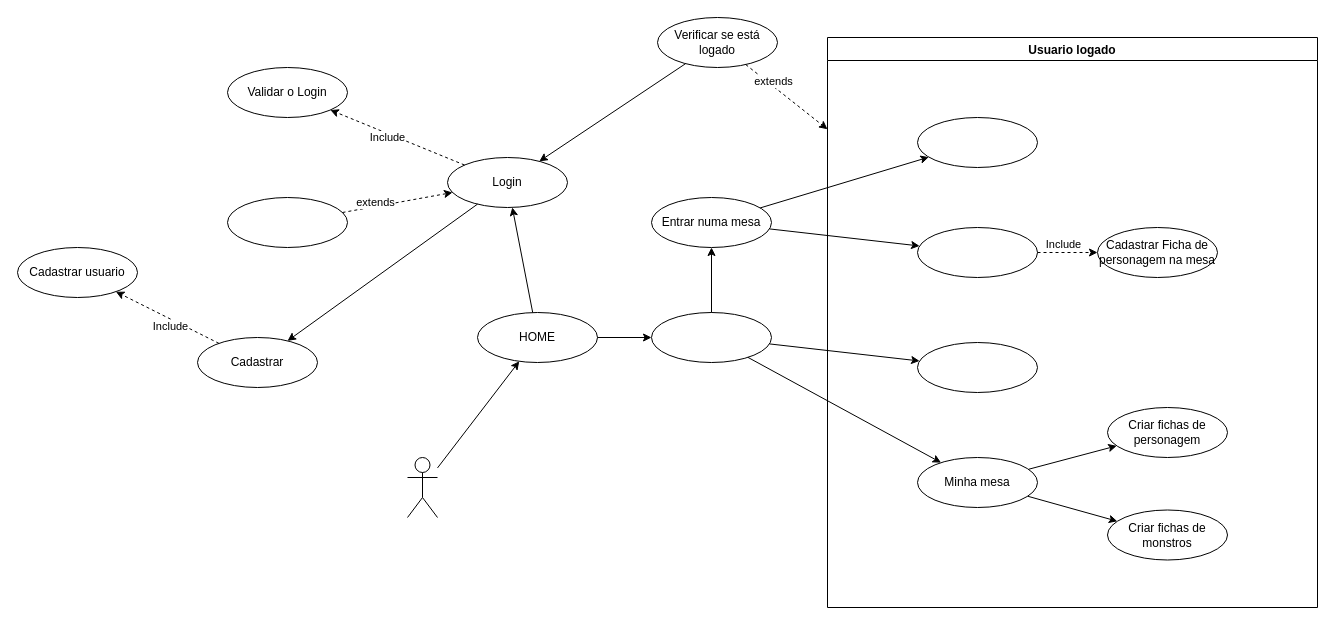
The diagram is 1335 pixels wide and 625 high, and some of its shapes have lost their labels. Each missing label, with the centre of its shape:
"Criar Mesa" belongs at (x=977, y=367).
"Criar uma ficha de personagem" belongs at (x=977, y=252).
"Editar ficha de personagem" belongs at (x=977, y=142).
"MESAS" belongs at (x=711, y=337).
"Retornar as informações do usuario" belongs at (x=287, y=222).
"Usuário n Logado" belongs at (x=422, y=487).
